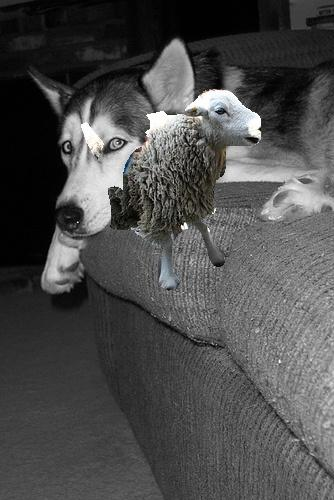tampered: (82, 90, 261, 290)
